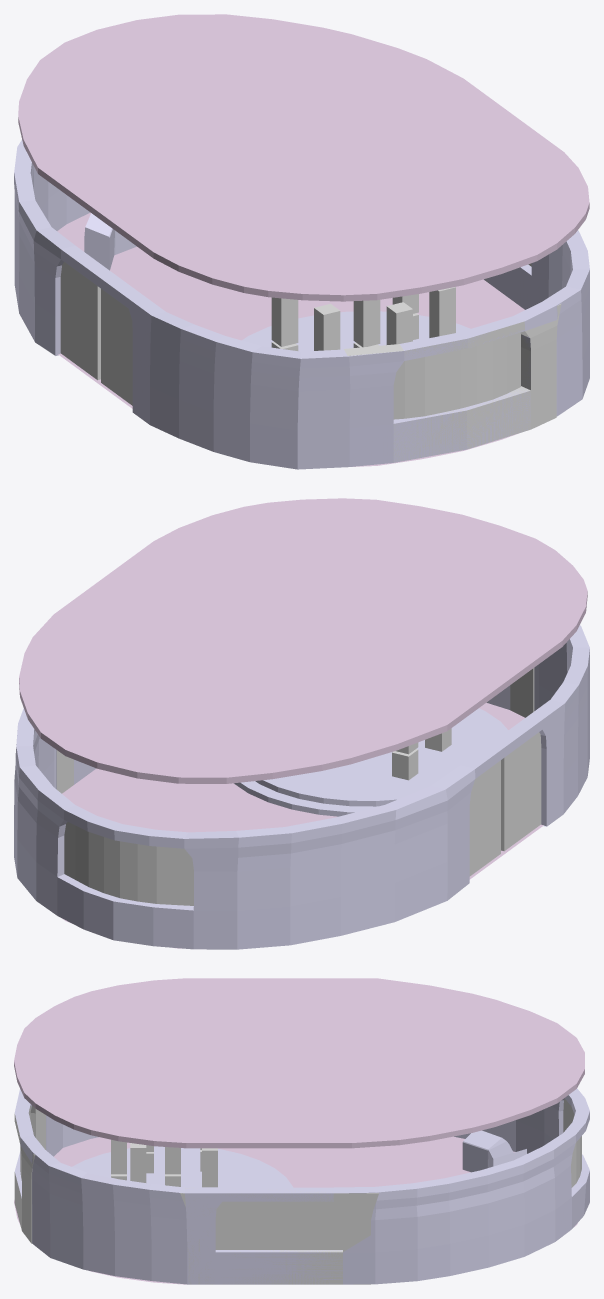
Rendered from SpaceShip.fbx.
The picture shows the model from 3 angles, top to bottom: view 1: azimuth 30°, elevation 25°; view 2: azimuth 150°, elevation 25°; view 3: azimuth 270°, elevation 25°; orthographic projection. The views are drawn at different scales.
Visible parts, largest first — view 1: ground.001, wall, ground, Plane.002, Window.001, LeftDoor, RightDoor, Base2, Control1, DIsplayWindow.001, DIsplayWindow.005, DIsplayWindow (+2 smaller); view 2: ground.001, wall, ground, Base2, Window, RightDoor, LeftDoor, Base1, Plane.002, DisplayBase.001, Plane.001; view 3: ground.001, wall, ground, Plane, Plane.001, Base2, Plane.002, Control1, Window, DIsplayWindow.005, DIsplayWindow.002, DIsplayWindow.003 (+2 smaller).
Part boxes in pixels (box(x1,y1,x2,y2)): ground.001: box(18, 14, 589, 301); wall: box(14, 140, 589, 469); ground: box(57, 212, 537, 466); Plane.002: box(344, 304, 561, 462); Window.001: box(393, 333, 520, 419); LeftDoor: box(60, 262, 100, 380); RightDoor: box(101, 289, 132, 405); Base2: box(248, 312, 466, 351); Control1: box(84, 213, 136, 270); DIsplayWindow.001: box(271, 297, 298, 346); DIsplayWindow.005: box(429, 287, 455, 337); DIsplayWindow: box(353, 300, 380, 347); ground.001: box(19, 498, 587, 783); wall: box(14, 625, 589, 949); ground: box(62, 702, 543, 948); Base2: box(255, 710, 500, 806); Window: box(64, 822, 193, 905); RightDoor: box(501, 732, 541, 851); LeftDoor: box(469, 760, 500, 876); Base1: box(234, 708, 508, 816); Plane.002: box(487, 668, 534, 717); DisplayBase.001: box(392, 749, 418, 780); Plane.001: box(56, 750, 73, 793); ground.001: box(14, 978, 584, 1148); wall: box(14, 1088, 589, 1284); ground: box(14, 1136, 577, 1284); Plane: box(215, 1201, 342, 1249); Plane.001: box(180, 1187, 378, 1284); Base2: box(76, 1146, 282, 1187); Plane.002: box(14, 1105, 45, 1243); Control1: box(462, 1130, 513, 1172); Window: box(563, 1099, 581, 1187); DIsplayWindow.005: box(130, 1143, 146, 1182); DIsplayWindow.002: box(202, 1148, 217, 1187); DIsplayWindow.003: box(111, 1139, 126, 1174).
Size of the model in its own units: 3728 by 1519 by 5470.
